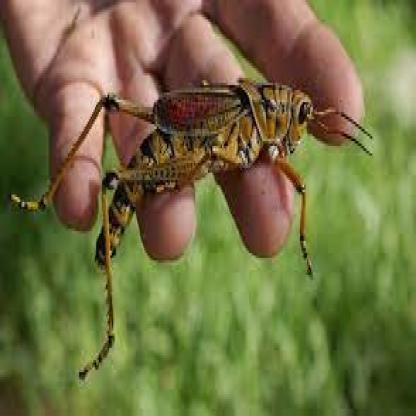grasshopper: (10, 84, 371, 390)
